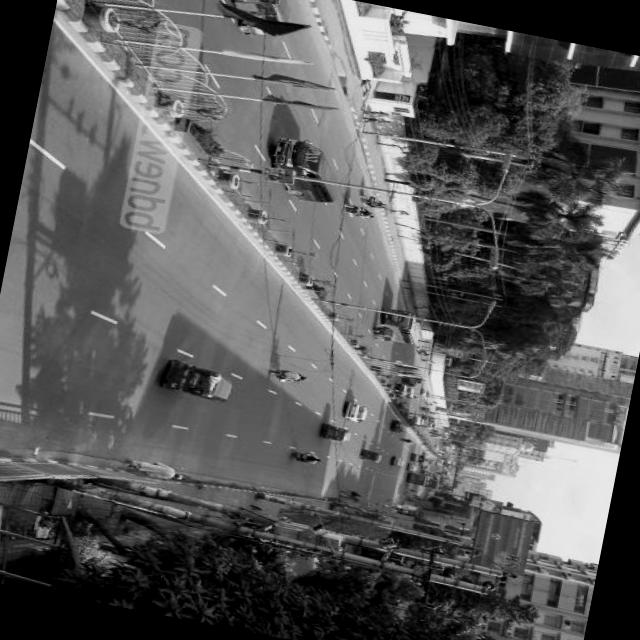bus: (394, 311, 428, 349), (407, 473, 433, 489), (431, 480, 442, 493)
car: (345, 402, 369, 426), (396, 384, 418, 402), (390, 421, 408, 436), (390, 456, 408, 470), (414, 418, 429, 430), (419, 390, 433, 402), (409, 465, 422, 476), (435, 444, 444, 452), (436, 463, 444, 469), (426, 454, 433, 460), (422, 468, 430, 472)
motorcycle: (215, 0, 299, 46), (164, 360, 238, 408), (271, 369, 305, 388), (323, 425, 355, 444), (343, 204, 371, 224), (374, 327, 398, 345), (292, 452, 318, 466), (359, 194, 381, 210), (362, 450, 384, 464), (402, 377, 420, 388), (402, 438, 412, 446), (422, 408, 432, 416), (418, 352, 429, 358), (425, 403, 432, 408), (434, 432, 442, 436)
truck: (267, 137, 351, 211), (410, 454, 426, 466)
